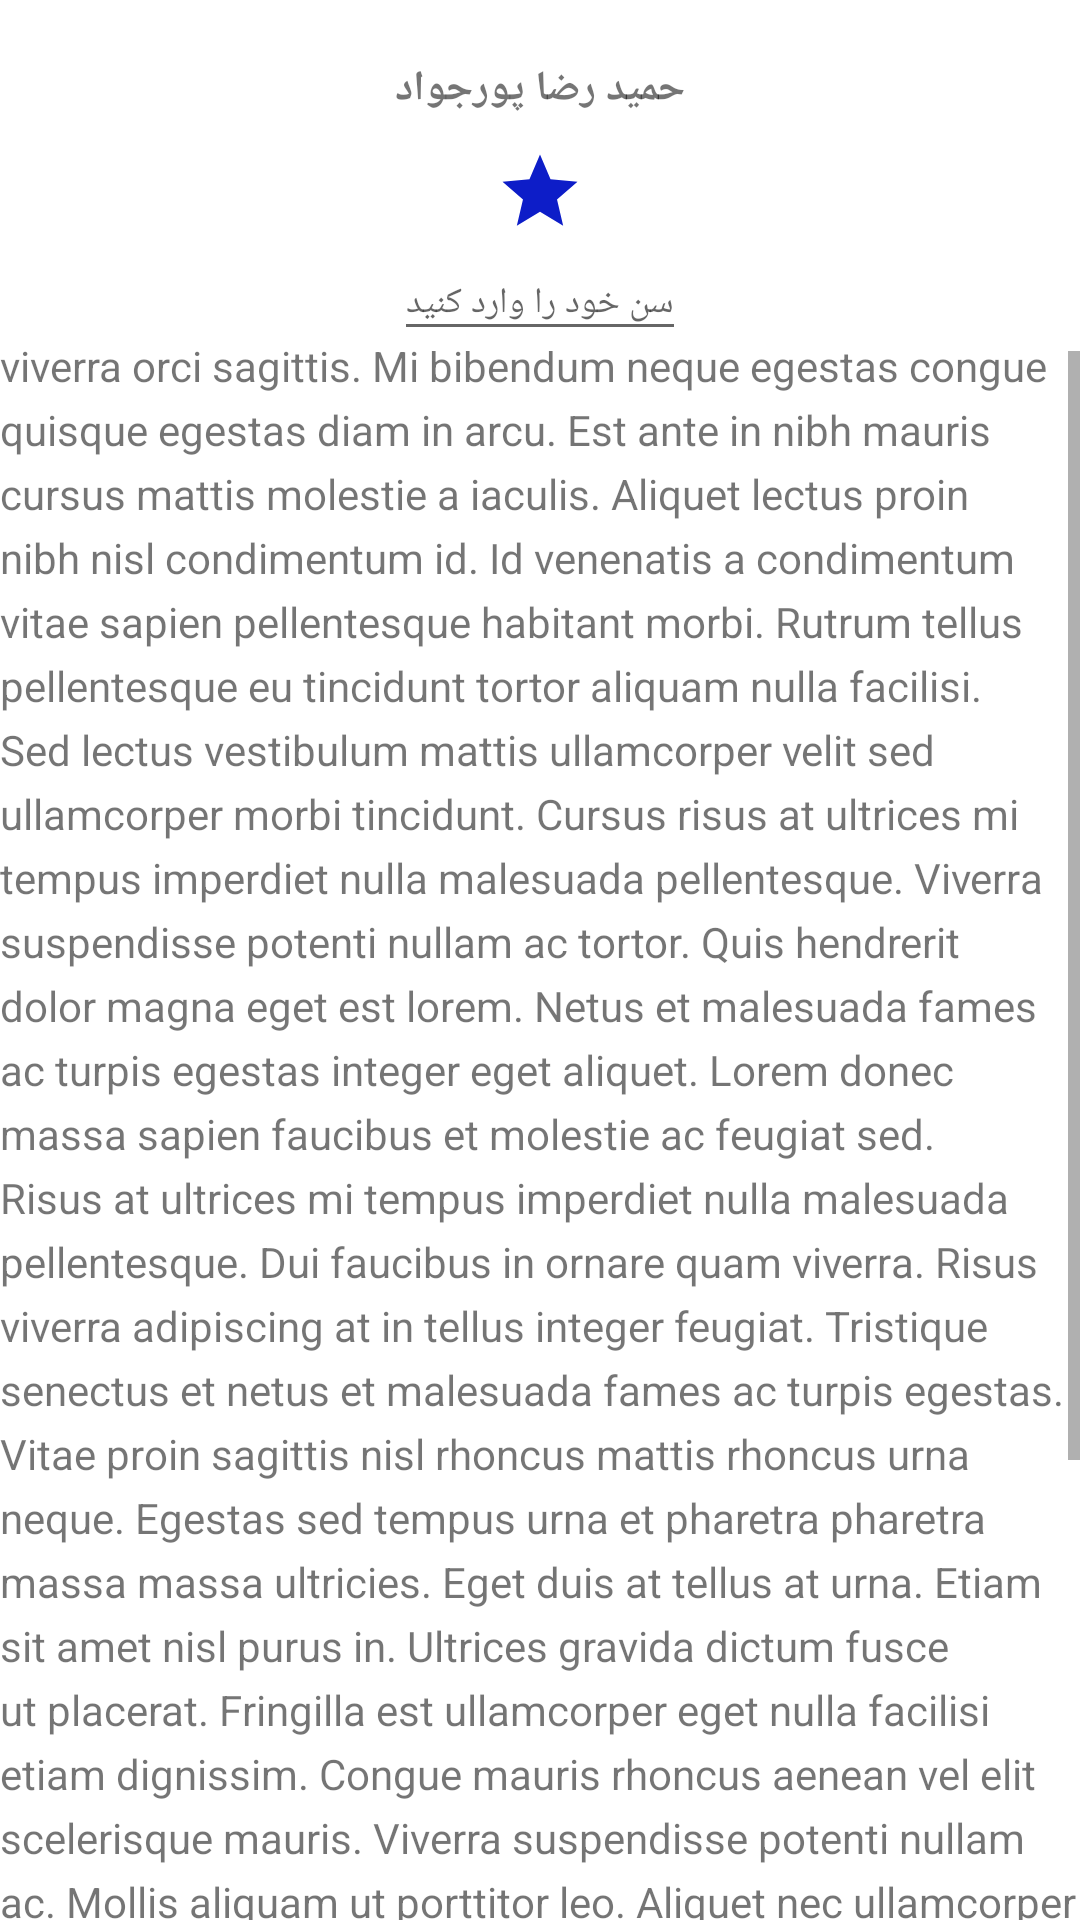

Point at icon controls on the screen. Image size 1080x1920, points as [x,y].
star image: [540,190]
